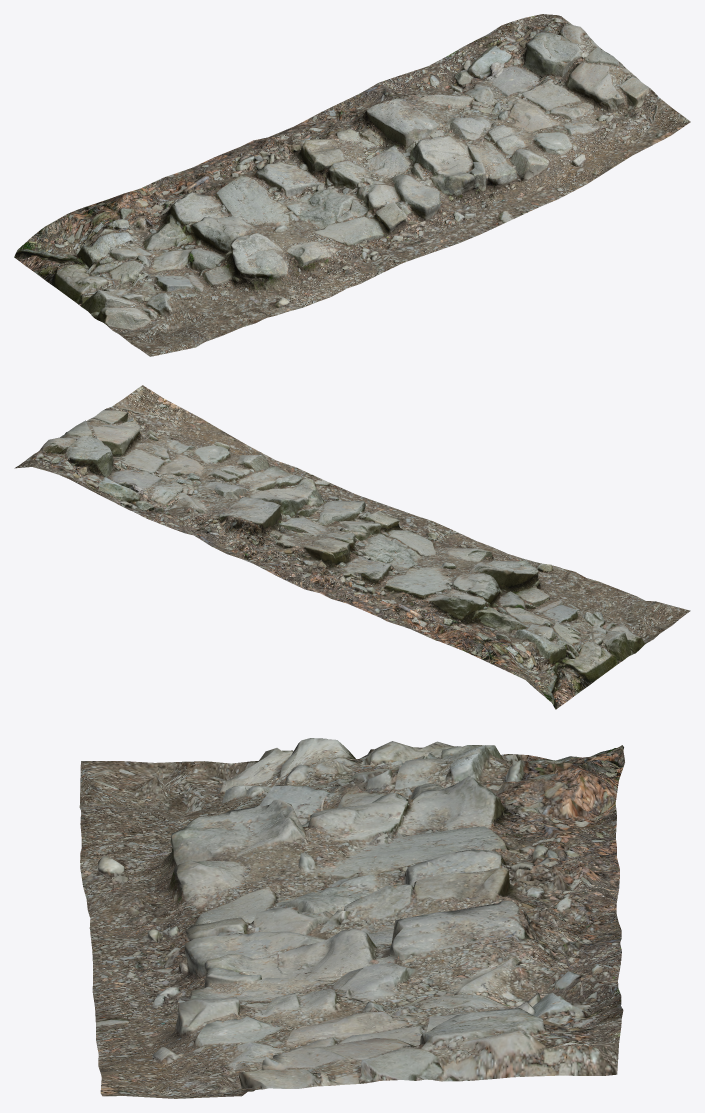
Rendered from sm_Path_01_03.fbx.
3 views of the same model, one above another, from view 1: azimuth 30°, elevation 25°; view 2: azimuth 150°, elevation 25°; view 3: azimuth 270°, elevation 25° (orthographic). The views are drawn at different scales.
Parts seen in each view (by area): view 1: sm_Path_01_03_LOD0; view 2: sm_Path_01_03_LOD0; view 3: sm_Path_01_03_LOD0.
Boxes of the visible parts, x1,y1,x2,y2 form: sm_Path_01_03_LOD0: (14,14,690,356); sm_Path_01_03_LOD0: (14,385,690,709); sm_Path_01_03_LOD0: (79,738,624,1098).
Size of the model in its own units: 600 by 261 by 134.
